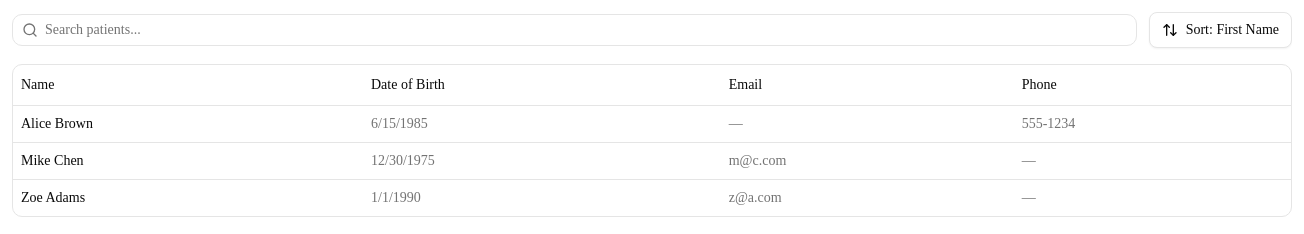
Test case: PatientTable › filters patients by name on search input (case-insensitive)
Type "alice" into the field with placeholder "Search patients..." at (574, 30), box [12, 14, 1137, 46]
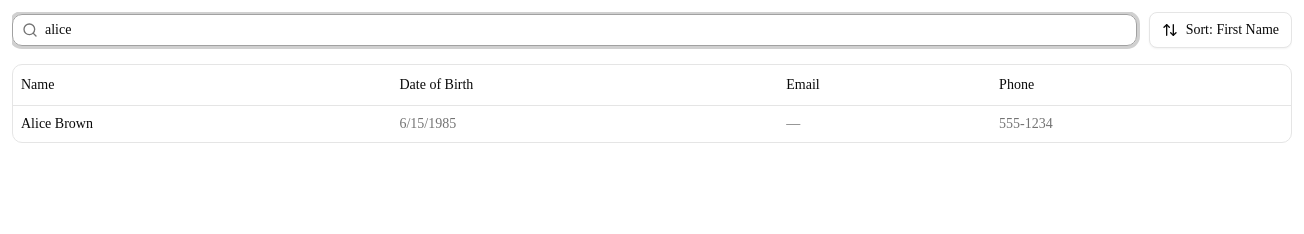
Expected: the text "Alice Brown" is shown, [13, 105, 392, 142]
Now the text "Zoe Adams" is gone
Now the text "Mike Chen" is gone
